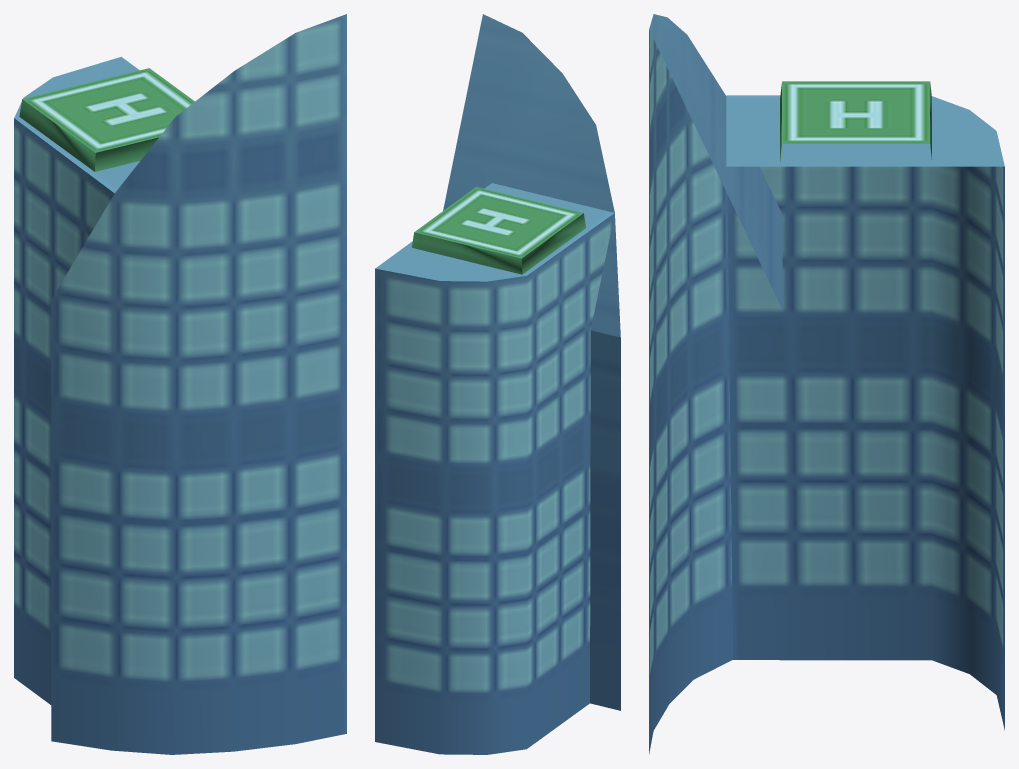
The model's file is MarineCity_Building_A_01.fbx.
3 views of the same model, side by side, from view 1: azimuth 30°, elevation 25°; view 2: azimuth 150°, elevation 25°; view 3: azimuth 270°, elevation 25° (orthographic). The views are drawn at different scales.
Visible parts, largest first — view 1: MarineCity_Building_A_01; view 2: MarineCity_Building_A_01; view 3: MarineCity_Building_A_01.
Part boxes in pixels (bbox=[...]): MarineCity_Building_A_01: bbox=[14, 14, 346, 754]; MarineCity_Building_A_01: bbox=[375, 14, 620, 754]; MarineCity_Building_A_01: bbox=[649, 14, 1004, 754].
Size of the model in its own units: 3000 by 9000 by 4000.
